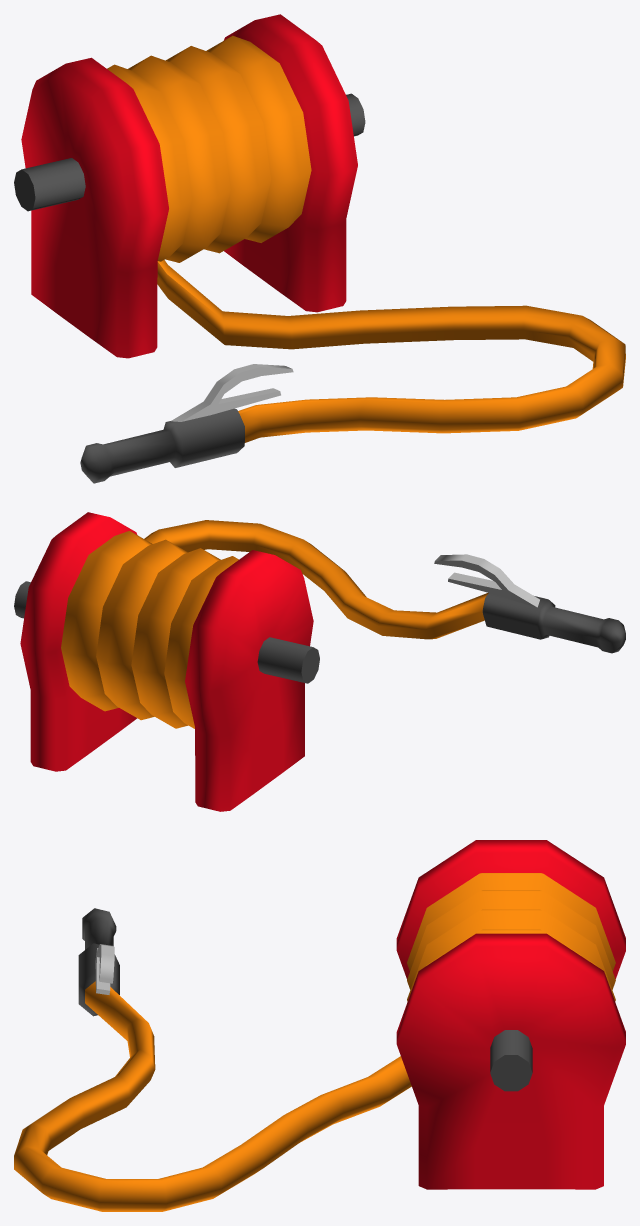
File: SM_Fire_Hose.fbx
3 renders of one model, top to bottom at view 1: azimuth 30°, elevation 25°; view 2: azimuth 150°, elevation 25°; view 3: azimuth 270°, elevation 25°, orthographic. The views are drawn at different scales.
Visible parts, largest first — view 1: SM_Fire_Hose; view 2: SM_Fire_Hose; view 3: SM_Fire_Hose.
Boxes of the visible parts, left/top/right/bottom form: SM_Fire_Hose: left=14, top=14, right=625, bottom=483; SM_Fire_Hose: left=14, top=512, right=625, bottom=811; SM_Fire_Hose: left=14, top=840, right=625, bottom=1211.
Size of the model in its own units: 114 by 49.56 by 113.
